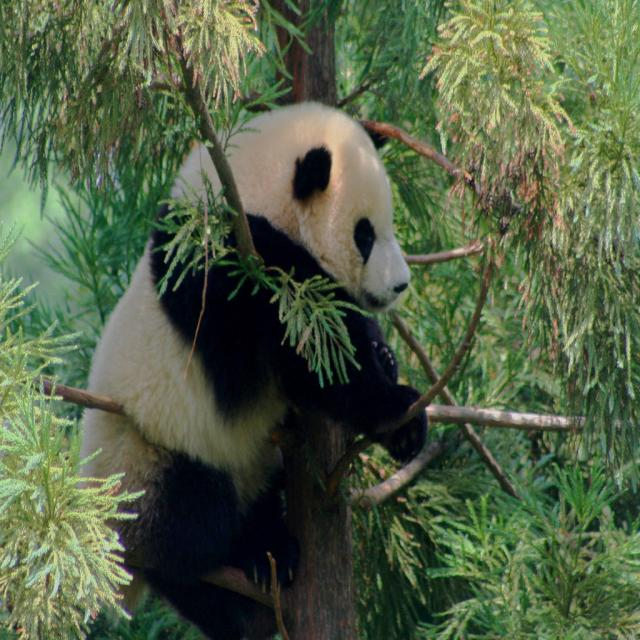panda: (75, 100, 427, 640)
